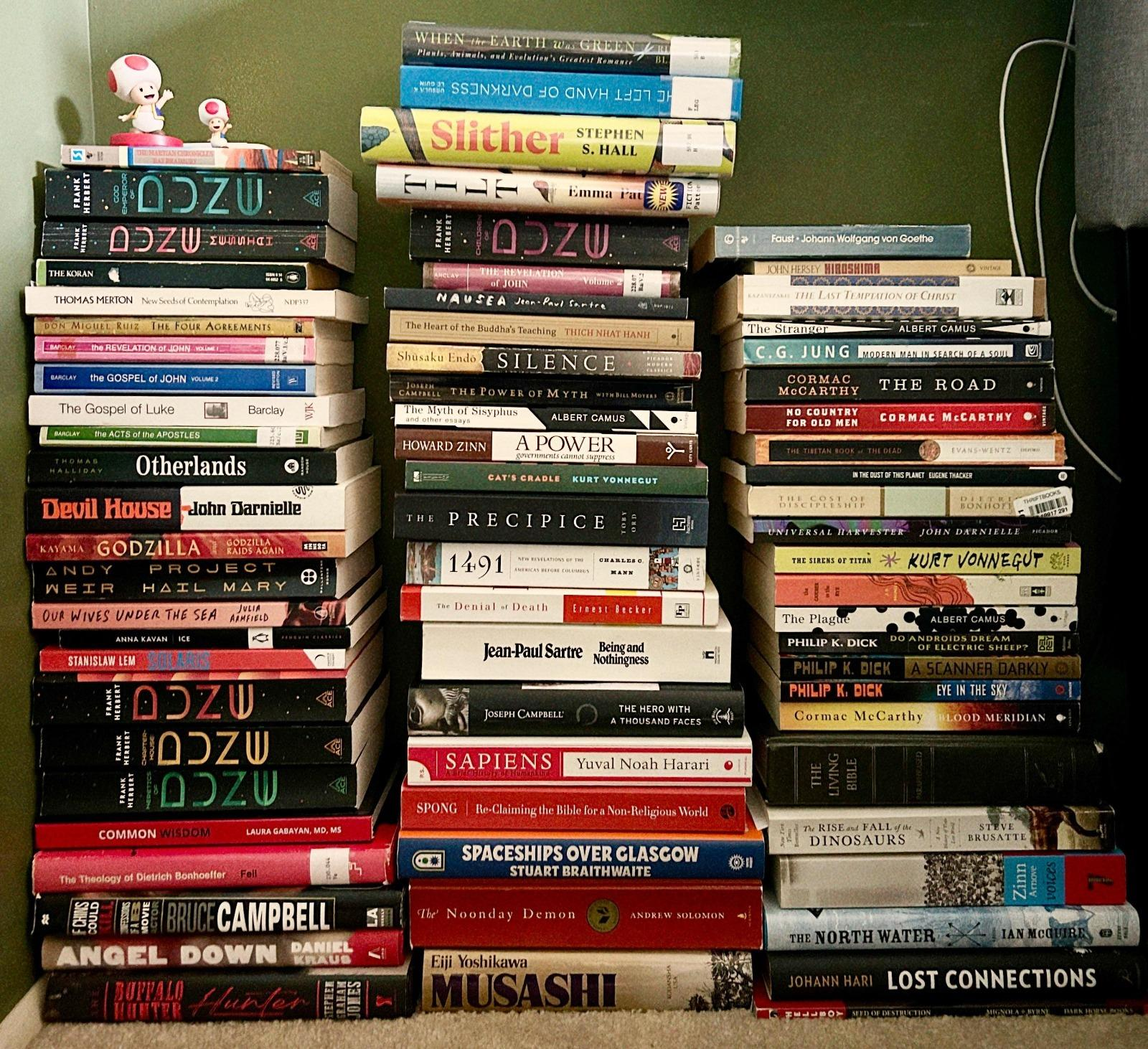book: (765, 735, 1114, 810), (406, 878, 749, 950), (385, 104, 715, 175), (27, 757, 378, 822), (41, 965, 405, 1026), (765, 894, 1143, 952), (772, 850, 1136, 910), (28, 832, 395, 891), (417, 946, 726, 1016), (25, 714, 378, 773), (400, 682, 739, 741), (762, 951, 1148, 1002), (414, 622, 732, 683), (24, 673, 375, 728), (400, 781, 751, 836), (399, 825, 752, 879), (29, 803, 391, 855), (24, 475, 383, 527), (395, 65, 721, 118), (394, 493, 709, 547), (401, 20, 720, 72), (27, 590, 385, 636), (767, 810, 1117, 857), (33, 929, 400, 972), (29, 558, 372, 603), (407, 211, 691, 265), (754, 984, 1148, 1022), (43, 173, 329, 224), (27, 446, 374, 488), (392, 174, 706, 220), (402, 542, 714, 587), (401, 578, 720, 622), (55, 893, 364, 938), (37, 220, 350, 264), (23, 414, 368, 453), (27, 639, 376, 677), (402, 747, 750, 785), (23, 529, 373, 565), (747, 279, 1046, 321), (25, 286, 367, 322), (396, 458, 708, 497), (388, 309, 688, 349), (32, 394, 370, 429), (394, 427, 702, 465), (30, 256, 350, 292), (28, 621, 364, 655), (757, 483, 1081, 518), (769, 699, 1091, 734), (741, 368, 1060, 403), (415, 260, 685, 300), (756, 574, 1082, 607), (398, 283, 684, 320), (385, 342, 689, 376), (761, 543, 1091, 574), (664, 224, 962, 257), (753, 437, 1068, 468), (705, 262, 924, 306), (391, 402, 696, 433), (31, 364, 327, 395), (386, 377, 698, 406), (744, 461, 1066, 489), (761, 404, 1065, 433), (755, 337, 1056, 366), (781, 655, 1092, 682), (765, 609, 1076, 636), (759, 517, 1085, 541), (774, 680, 1086, 705), (59, 141, 327, 170), (776, 631, 1086, 656), (28, 314, 337, 339), (754, 317, 1059, 342), (33, 337, 316, 362), (751, 259, 1018, 278)
